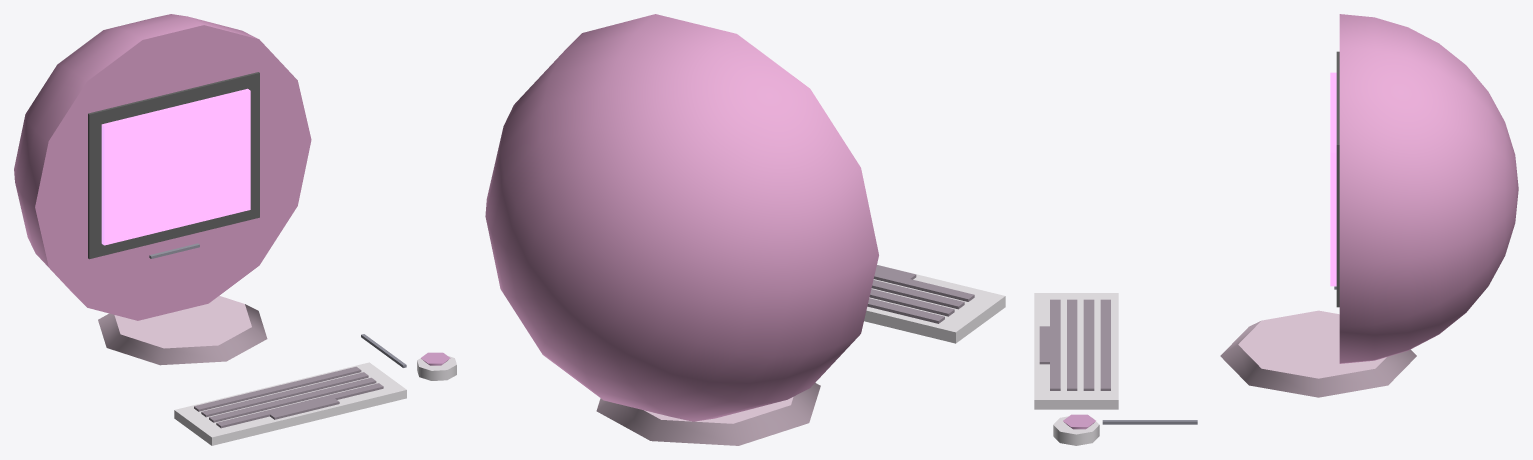
Rendered from retro-computer.glb.
The picture shows the model from 3 angles, left to right: view 1: azimuth 30°, elevation 25°; view 2: azimuth 150°, elevation 25°; view 3: azimuth 270°, elevation 25°; orthographic projection. The views are drawn at different scales.
Parts seen in each view (by area): view 1: dome, screen, base, bezel, key-row-0, keyboard, mouse, drive-slot; view 2: dome, base, keyboard, key-row-0; view 3: dome, base, keyboard, key-row-0, screen, bezel, mouse, drive-slot.
Boxes of the visible parts, bbox=[...] form: dome: bbox=[14, 14, 311, 320]; screen: bbox=[101, 88, 250, 245]; base: bbox=[98, 296, 267, 365]; bezel: bbox=[88, 72, 259, 259]; key-row-0: bbox=[194, 366, 383, 428]; keyboard: bbox=[174, 362, 406, 445]; mouse: bbox=[417, 356, 456, 380]; drive-slot: bbox=[149, 243, 406, 367]; dome: bbox=[485, 14, 878, 421]; base: bbox=[596, 383, 820, 445]; keyboard: bbox=[864, 264, 1005, 343]; key-row-0: bbox=[867, 265, 974, 323]; dome: bbox=[1339, 14, 1518, 363]; base: bbox=[1220, 310, 1416, 397]; keyboard: bbox=[1034, 293, 1118, 409]; key-row-0: bbox=[1039, 299, 1110, 390]; screen: bbox=[1330, 72, 1336, 286]; bezel: bbox=[1336, 51, 1339, 307]; mouse: bbox=[1053, 416, 1099, 445]; drive-slot: bbox=[1102, 286, 1336, 424].
Bounding box in the file's own units: 0.372 × 0.3407 × 0.46.
